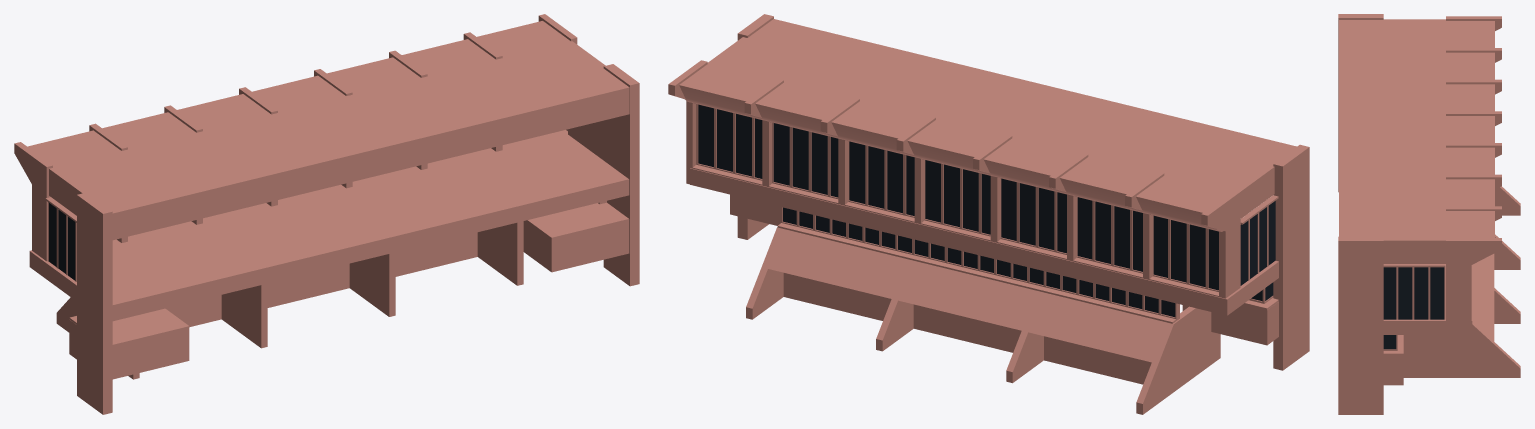
The model's file is Assembly03.fbx.
The picture shows the model from 3 angles, left to right: view 1: azimuth 30°, elevation 25°; view 2: azimuth 150°, elevation 25°; view 3: azimuth 270°, elevation 25°; orthographic projection. The views are drawn at different scales.
Parts seen in each view (by area): view 1: BasicTerrace10m.006, BasicBuildingBlock10x5.027, BasicSupport01Base.005, BasicSupport04Top.011, BasicBuildingBlock10x5.026, BasicWall1x5Var01.009, BasicSupport01Top.004, BasicSupport01Base.004, BasicBuildingBlock10x5.028, BasicWall1Glassx5.034, BasicWall1Glassx5.032; view 2: BasicTerrace10m.006, BasicWall1Glassx5.033, BasicSupport04Top.012, BasicSupport01Top.004, BasicBuildingBlock10x5.027, BasicSupport04Top.011, BasicWall1x5Var01.009, BasicSupport01Base.005, BasicWall1Glassx5.034, BasicBuildingBlock10x5.028, BasicWallGlass_5x2.006, BasicWallGlass_5x2.004 (+6 smaller); view 3: BasicTerrace10m.006, BasicSupport01Base.004, BasicSupport04Top.011, BasicSupport01Top.004, BasicWall1Glassx5.032, BasicSupport04Top.012, BasicBuildingBlock10x5.027, BasicBuildingBlock10x5.026, BasicSupport01Base.005, BasicWallGlass2h.003.
Boxes of the visible parts, <box> form: BasicTerrace10m.006: <box>27,21,629,240</box>; BasicBuildingBlock10x5.027: <box>29,130,629,321</box>; BasicSupport01Base.005: <box>77,192,112,414</box>; BasicSupport04Top.011: <box>56,221,523,379</box>; BasicBuildingBlock10x5.026: <box>523,202,629,272</box>; BasicWall1x5Var01.009: <box>165,232,477,327</box>; BasicSupport01Top.004: <box>14,14,577,261</box>; BasicSupport01Base.004: <box>603,64,639,286</box>; BasicBuildingBlock10x5.028: <box>69,308,189,379</box>; BasicWall1Glassx5.034: <box>45,197,76,281</box>; BasicWall1Glassx5.032: <box>568,120,604,160</box>; BasicTerrace10m.006: <box>679,19,1296,231</box>; BasicWall1Glassx5.033: <box>692,103,1219,296</box>; BasicSupport04Top.012: <box>768,229,1180,363</box>; BasicSupport01Top.004: <box>668,60,1240,298</box>; BasicBuildingBlock10x5.027: <box>690,168,1278,315</box>; BasicSupport04Top.011: <box>746,227,1220,414</box>; BasicWall1x5Var01.009: <box>783,273,1151,384</box>; BasicSupport01Base.005: <box>1273,144,1309,370</box>; BasicWall1Glassx5.034: <box>1240,195,1278,285</box>; BasicBuildingBlock10x5.028: <box>1182,302,1278,345</box>; BasicWallGlass_5x2.006: <box>1106,287,1179,323</box>; BasicWallGlass_5x2.004: <box>975,255,1044,291</box>; BasicTerrace10m.006: <box>1339,19,1494,263</box>; BasicSupport01Base.004: <box>1338,236,1383,414</box>; BasicSupport04Top.011: <box>1403,186,1520,377</box>; BasicSupport01Top.004: <box>1446,16,1501,336</box>; BasicWall1Glassx5.032: <box>1383,264,1445,319</box>; BasicSupport04Top.012: <box>1472,254,1494,341</box>; BasicBuildingBlock10x5.027: <box>1383,264,1472,334</box>; BasicBuildingBlock10x5.026: <box>1383,355,1403,385</box>; BasicSupport01Base.005: <box>1338,14,1383,192</box>; BasicWallGlass2h.003: <box>1383,335,1403,355</box>.
Size of the model in its own units: 4190 by 1500 by 1424.
